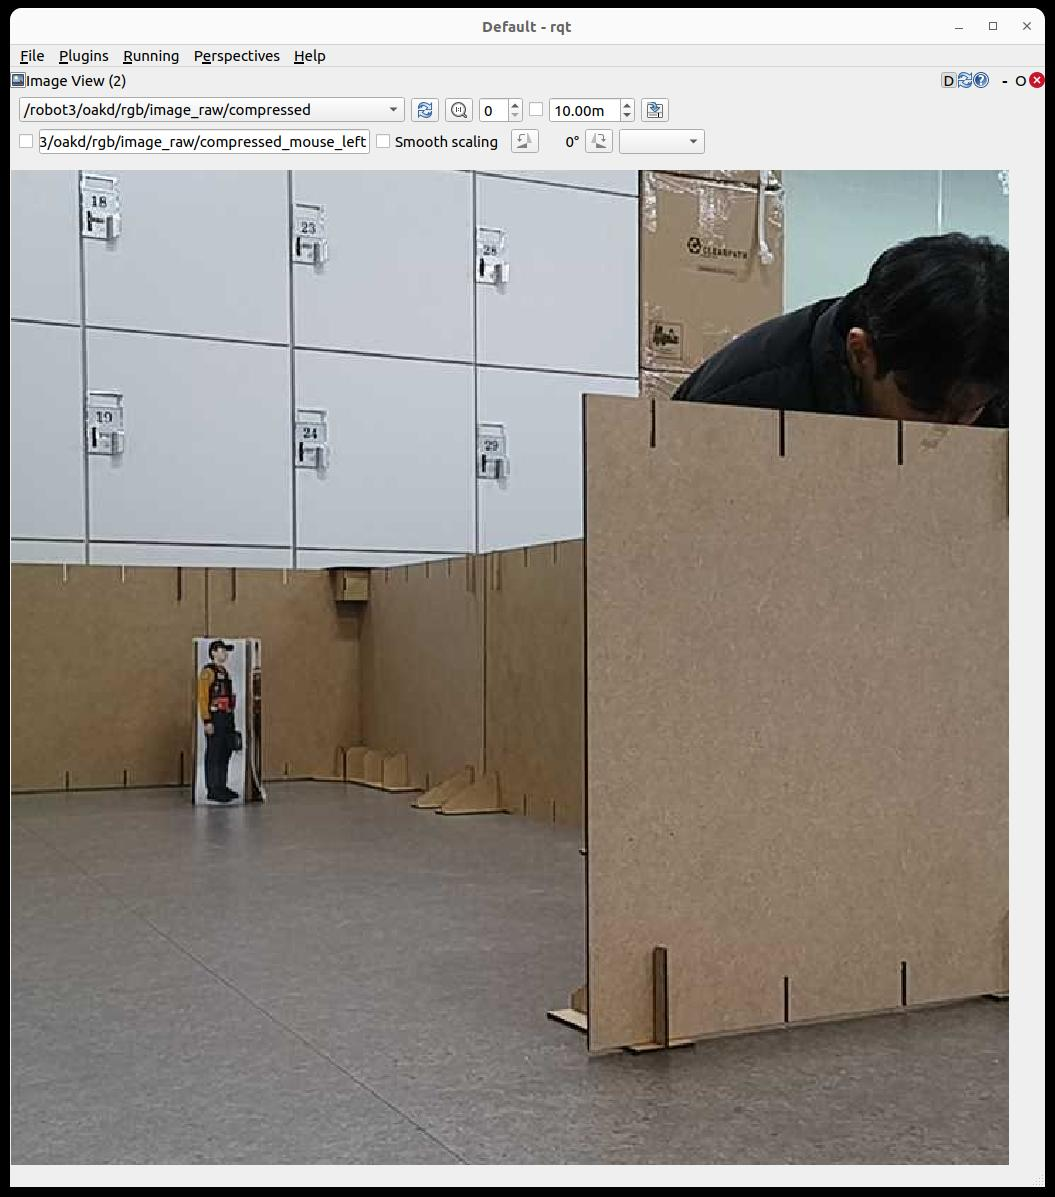Responder: (198, 642, 237, 801)
